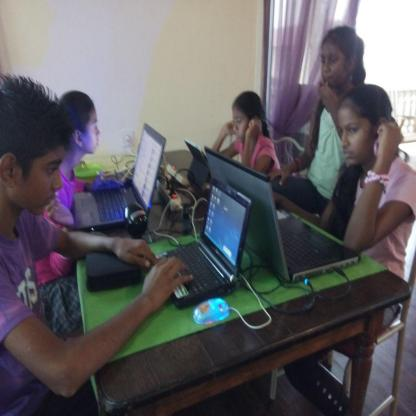board: (203, 144, 362, 284), (154, 177, 254, 308), (74, 122, 166, 230)
